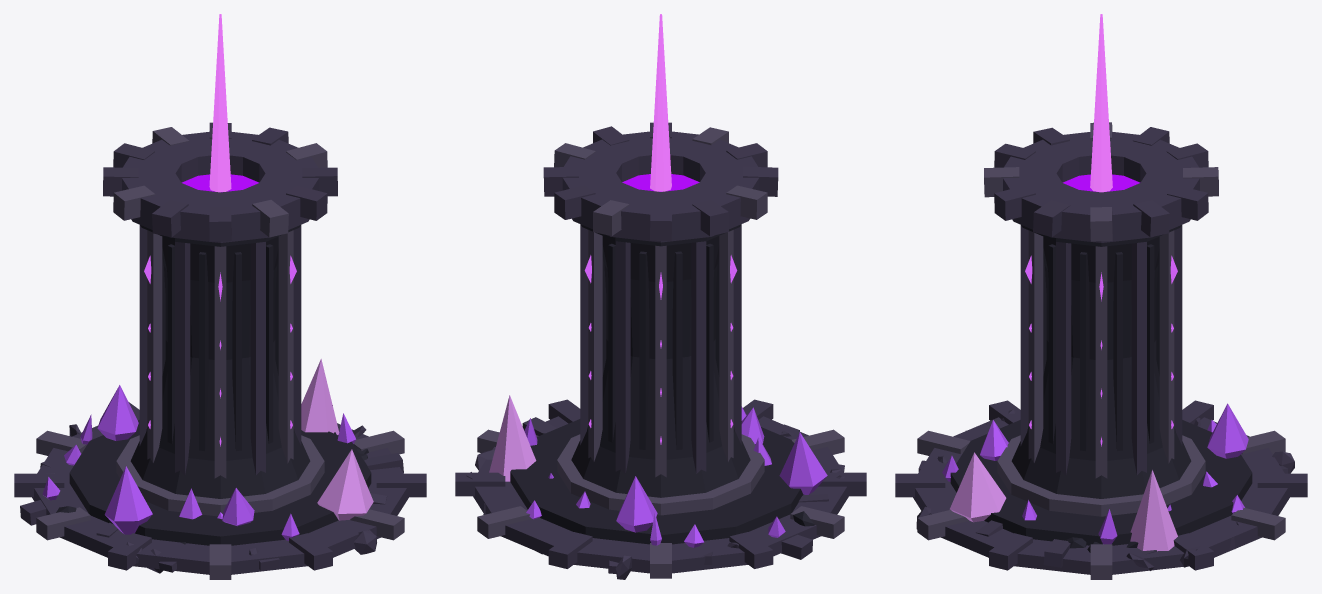
The model's file is darkTower.glb.
The picture shows the model from 3 angles, left to right: view 1: azimuth 30°, elevation 25°; view 2: azimuth 150°, elevation 25°; view 3: azimuth 270°, elevation 25°; orthographic projection.
Visible parts, largest first — view 1: Tower_Body_Dramatic_Taper, Top_Ring_Heavy_Segmented, Base_Middle_Ring, Base_Outer_Broken_Ring, Base_Tower_Seat_Ring, Tower_Strong_Vertical_Rib_08, Tower_Strong_Vertical_Rib_10, Tower_Strong_Vertical_Rib_07, Tower_Strong_Vertical_Rib_11, Tower_Strong_Vertical_Rib_09, Outer_Transparent_Purple_Beam, Dominant_Crystal_04 (+29 smaller); view 2: Tower_Body_Dramatic_Taper, Top_Ring_Heavy_Segmented, Base_Middle_Ring, Base_Outer_Broken_Ring, Base_Tower_Seat_Ring, Tower_Strong_Vertical_Rib_04, Tower_Strong_Vertical_Rib_06, Tower_Strong_Vertical_Rib_03, Tower_Strong_Vertical_Rib_07, Tower_Strong_Vertical_Rib_05, Outer_Transparent_Purple_Beam, Dominant_Crystal_01 (+28 smaller); view 3: Tower_Body_Dramatic_Taper, Top_Ring_Heavy_Segmented, Base_Outer_Broken_Ring, Base_Middle_Ring, Base_Tower_Seat_Ring, Tower_Strong_Vertical_Rib_02, Tower_Strong_Vertical_Rib_12, Tower_Strong_Vertical_Rib_11, Tower_Strong_Vertical_Rib_03, Tower_Strong_Vertical_Rib_01, Outer_Transparent_Purple_Beam, Dominant_Crystal_01 (+31 smaller).
Part boxes in pixels (left/top/right/bottom): Tower_Body_Dramatic_Taper: left=130, top=236, right=310, bottom=498; Top_Ring_Heavy_Segmented: left=122, top=131, right=319, bottom=242; Base_Middle_Ring: left=69, top=420, right=371, bottom=545; Base_Outer_Broken_Ring: left=32, top=423, right=408, bottom=574; Base_Tower_Seat_Ring: left=116, top=435, right=324, bottom=516; Tower_Strong_Vertical_Rib_08: left=175, top=242, right=190, bottom=474; Tower_Strong_Vertical_Rib_10: left=250, top=242, right=265, bottom=474; Tower_Strong_Vertical_Rib_07: left=147, top=230, right=162, bottom=463; Tower_Strong_Vertical_Rib_11: left=278, top=230, right=293, bottom=463; Tower_Strong_Vertical_Rib_09: left=214, top=246, right=226, bottom=478; Outer_Transparent_Purple_Beam: left=209, top=14, right=231, bottom=192; Dominant_Crystal_04: left=317, top=449, right=373, bottom=520; Tower_Body_Dramatic_Taper: left=571, top=236, right=750, bottom=497; Top_Ring_Heavy_Segmented: left=562, top=131, right=759, bottom=242; Base_Middle_Ring: left=510, top=419, right=803, bottom=544; Base_Outer_Broken_Ring: left=473, top=416, right=848, bottom=573; Base_Tower_Seat_Ring: left=557, top=434, right=764, bottom=515; Tower_Strong_Vertical_Rib_04: left=615, top=241, right=630, bottom=473; Tower_Strong_Vertical_Rib_06: left=691, top=241, right=706, bottom=473; Tower_Strong_Vertical_Rib_03: left=588, top=230, right=602, bottom=461; Tower_Strong_Vertical_Rib_07: left=719, top=230, right=733, bottom=461; Tower_Strong_Vertical_Rib_05: left=655, top=245, right=666, bottom=477; Outer_Transparent_Purple_Beam: left=650, top=14, right=671, bottom=191; Dominant_Crystal_01: left=489, top=395, right=536, bottom=481; Tower_Body_Dramatic_Taper: left=1011, top=236, right=1191, bottom=498; Top_Ring_Heavy_Segmented: left=1003, top=131, right=1199, bottom=242; Base_Outer_Broken_Ring: left=913, top=417, right=1289, bottom=574; Base_Middle_Ring: left=950, top=420, right=1252, bottom=545; Base_Tower_Seat_Ring: left=997, top=435, right=1205, bottom=516; Tower_Strong_Vertical_Rib_02: left=1131, top=242, right=1146, bottom=474; Tower_Strong_Vertical_Rib_12: left=1056, top=242, right=1071, bottom=474; Tower_Strong_Vertical_Rib_11: left=1028, top=230, right=1043, bottom=463; Tower_Strong_Vertical_Rib_03: left=1159, top=230, right=1174, bottom=463; Tower_Strong_Vertical_Rib_01: left=1095, top=246, right=1107, bottom=478; Outer_Transparent_Purple_Beam: left=1090, top=14, right=1112, bottom=192; Dominant_Crystal_01: left=1130, top=470, right=1177, bottom=551.
Size of the model in its own units: 6.42 by 8.4 by 6.42.
